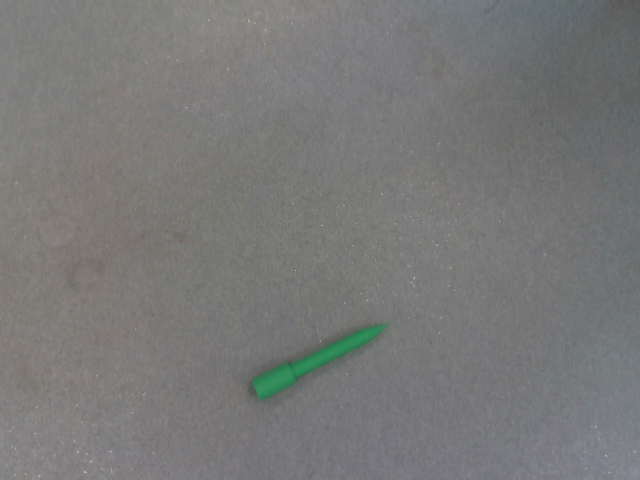Probe: (248, 317, 398, 405)
